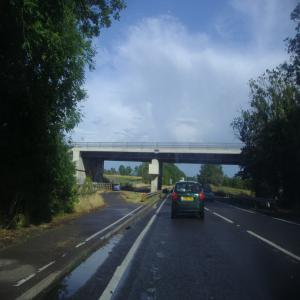Vehicle-registration-plate: (184, 198, 195, 201)
